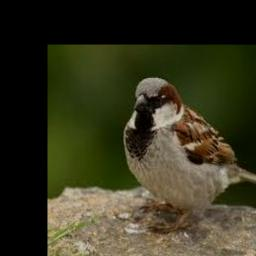Sparrow: (124, 77, 256, 234)
